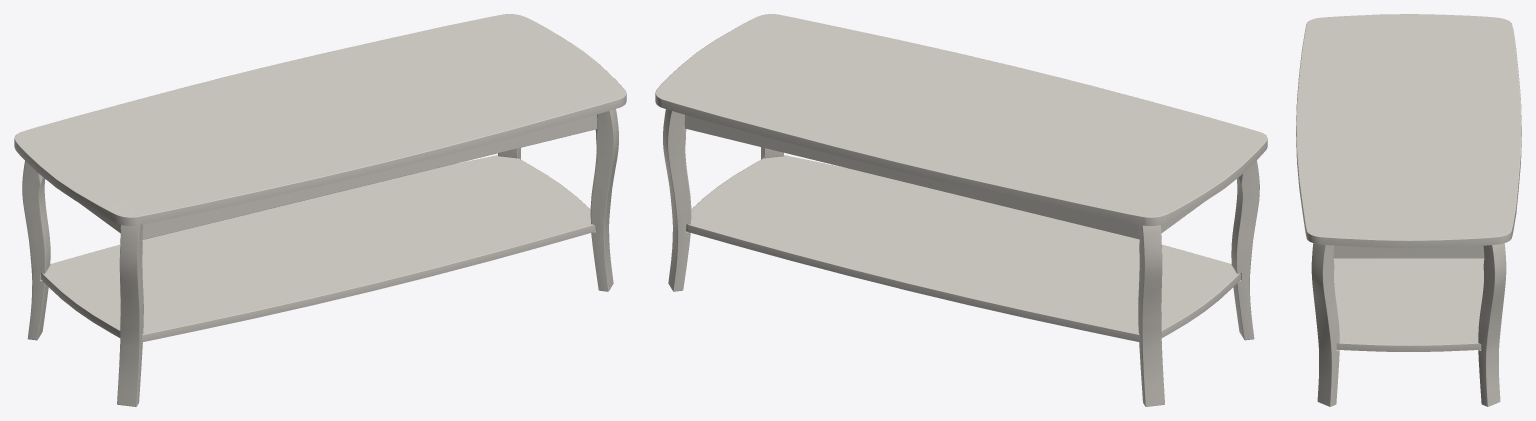
The model's file is abo-B07DB92J69.glb.
3 renders of one model, left to right at view 1: azimuth 30°, elevation 25°; view 2: azimuth 150°, elevation 25°; view 3: azimuth 270°, elevation 25°, orthographic. The views are drawn at different scales.
Bounding box in the file's own units: 1.33 × 0.474 × 0.561.
Materials: 1 (1 with a texture image).
